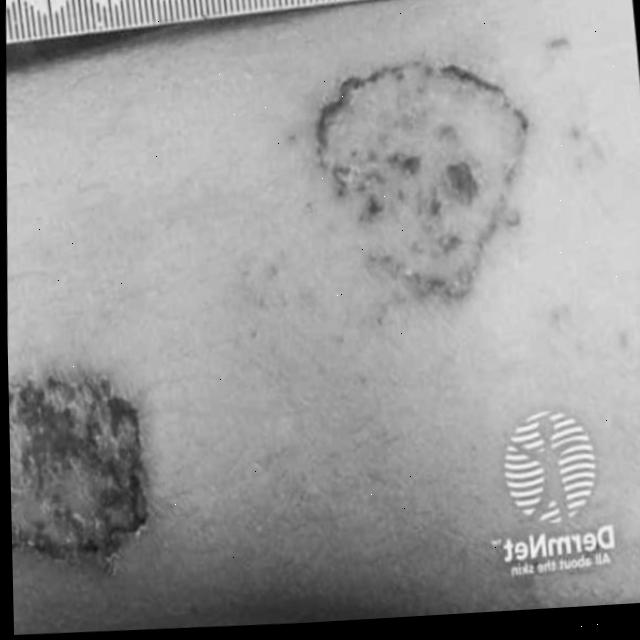Eczema: (297, 44, 547, 334), (8, 353, 159, 584)
